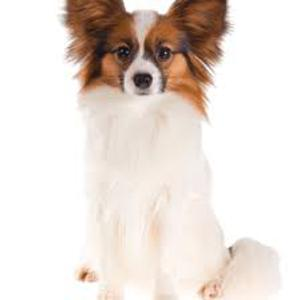yell: (63, 0, 284, 300)
